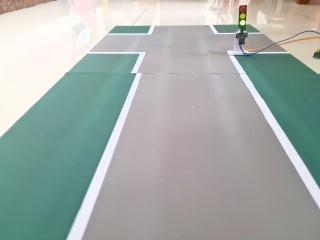green: (234, 1, 253, 32)
